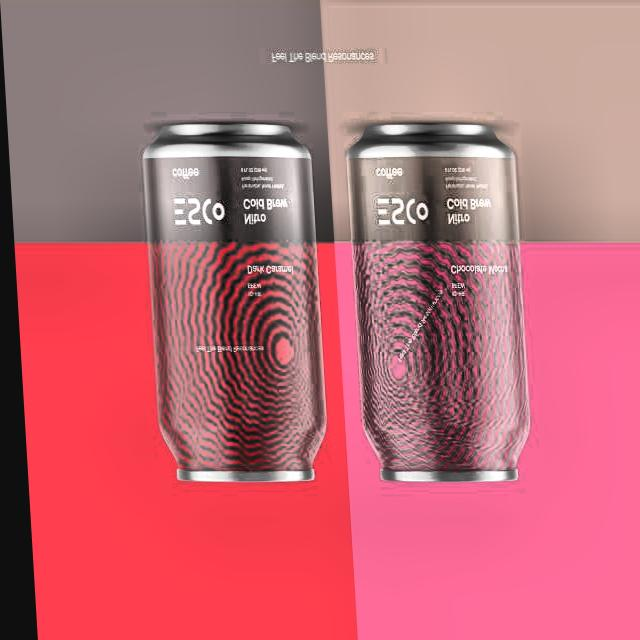can: (135, 122, 334, 498), (339, 116, 540, 487)
